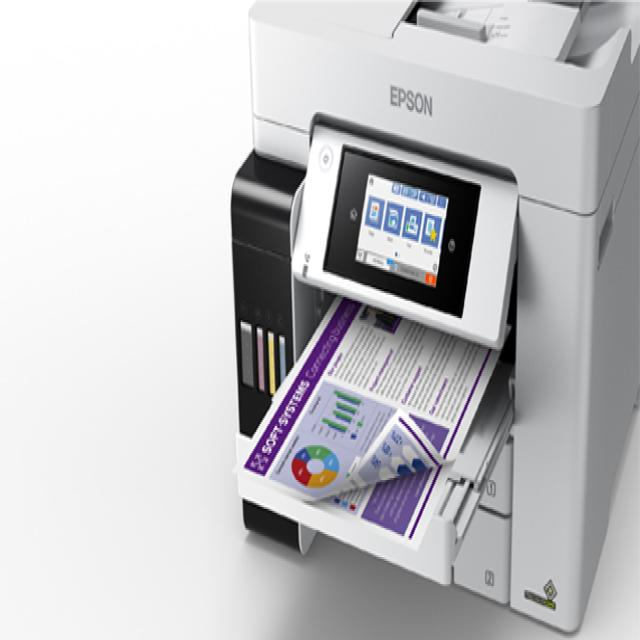printer: (229, 0, 639, 632)
